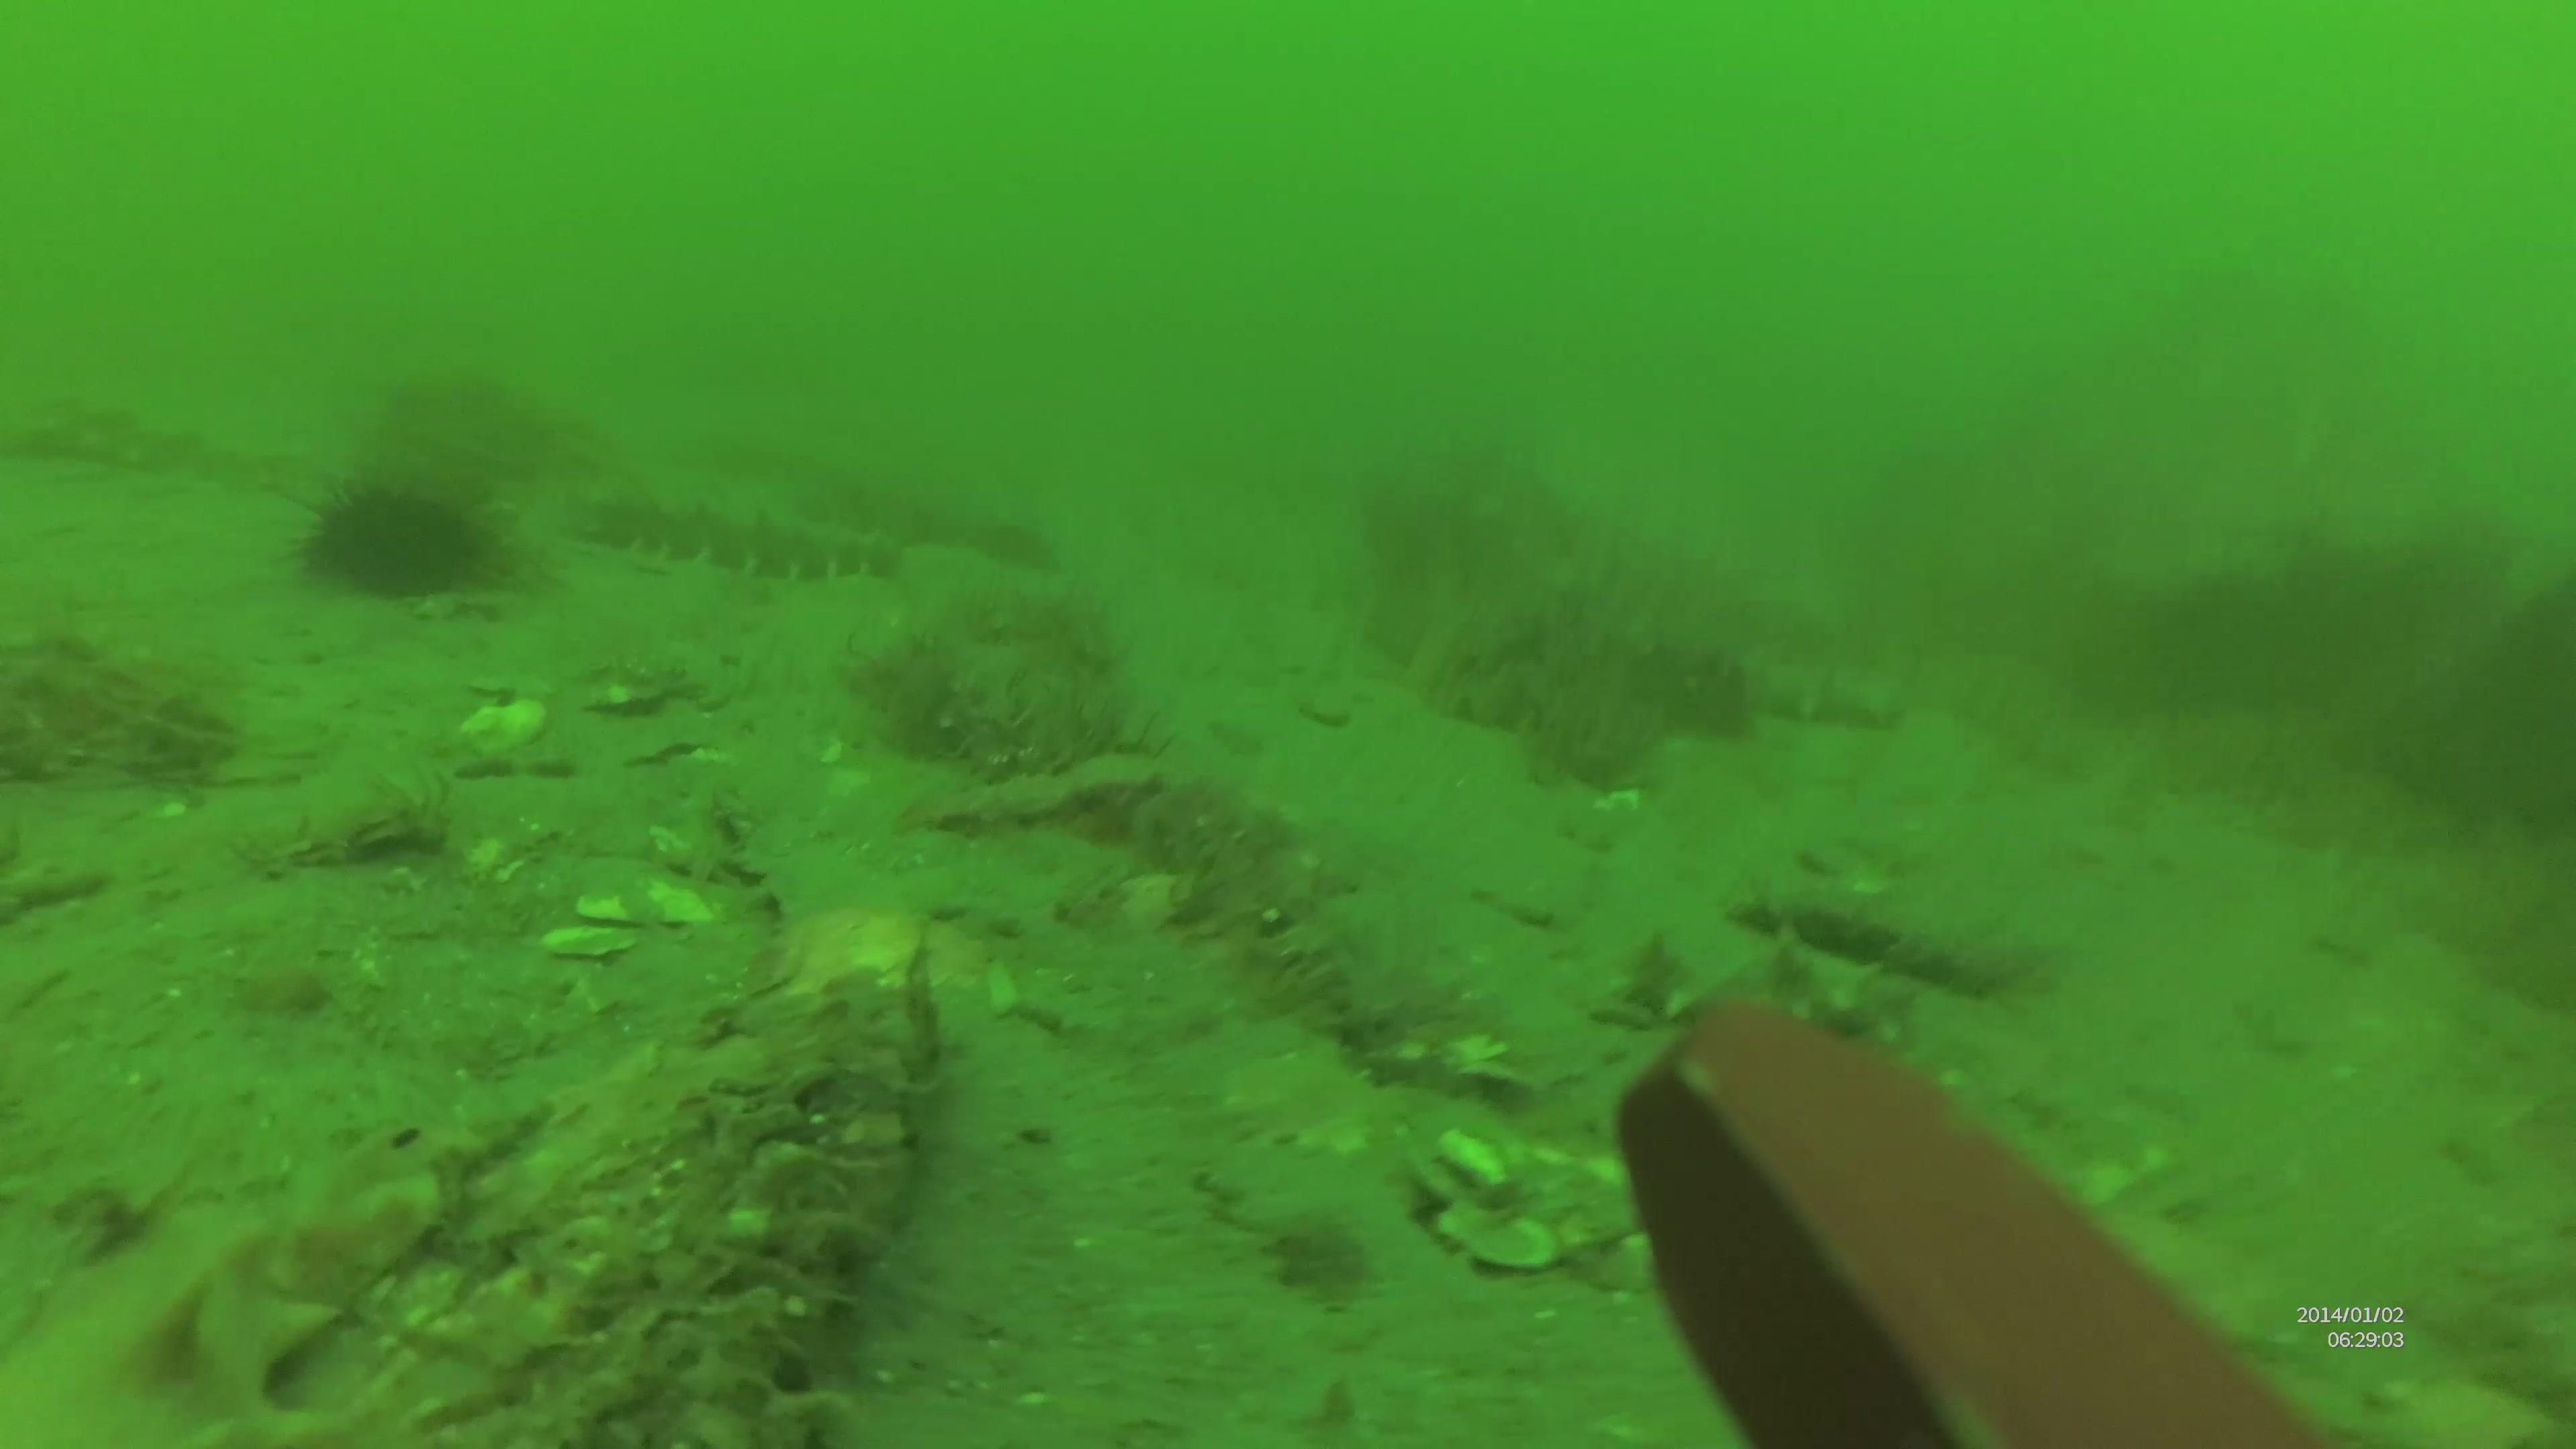echinus: (288, 472, 472, 596)
holothurian: (554, 479, 922, 605), (1716, 872, 2031, 994)
